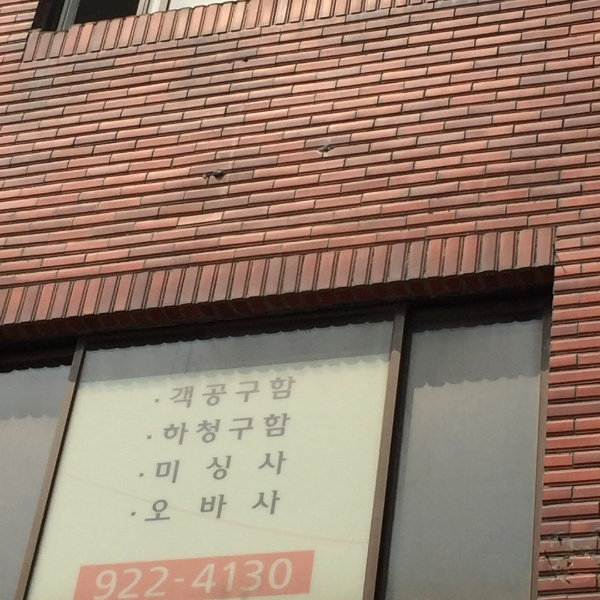text: (97, 556, 112, 599), (113, 556, 128, 599), (129, 556, 144, 599), (145, 556, 160, 599), (161, 556, 176, 599), (177, 556, 192, 599), (193, 556, 208, 599), (209, 556, 224, 599), (225, 556, 240, 599), (241, 556, 256, 599), (257, 556, 272, 599), (273, 556, 288, 599), (273, 449, 289, 489), (161, 449, 176, 489), (177, 449, 192, 489), (193, 449, 208, 489), (209, 449, 224, 489), (225, 449, 240, 489), (241, 449, 256, 489), (257, 449, 272, 489), (177, 374, 192, 412), (193, 374, 208, 412), (209, 374, 224, 412), (225, 374, 240, 412), (241, 374, 256, 412), (257, 374, 272, 412), (273, 374, 288, 412), (161, 489, 176, 526), (177, 489, 192, 526), (193, 489, 208, 526), (209, 489, 224, 526), (225, 489, 240, 526), (241, 489, 256, 526), (257, 489, 272, 526), (177, 412, 192, 448), (193, 412, 208, 448), (209, 412, 224, 448), (225, 412, 240, 448), (241, 412, 256, 448), (257, 412, 272, 448), (273, 412, 288, 448), (163, 412, 176, 448), (273, 489, 283, 526), (289, 374, 298, 412), (152, 489, 160, 526), (289, 556, 294, 599), (172, 374, 176, 412), (289, 412, 293, 448), (157, 449, 160, 489)
